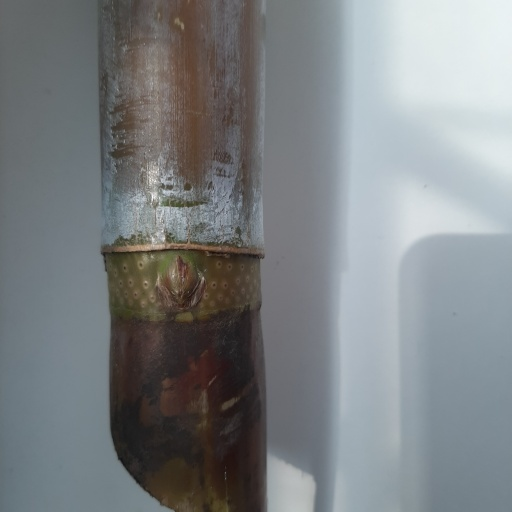Bud: (160, 253, 201, 304)
